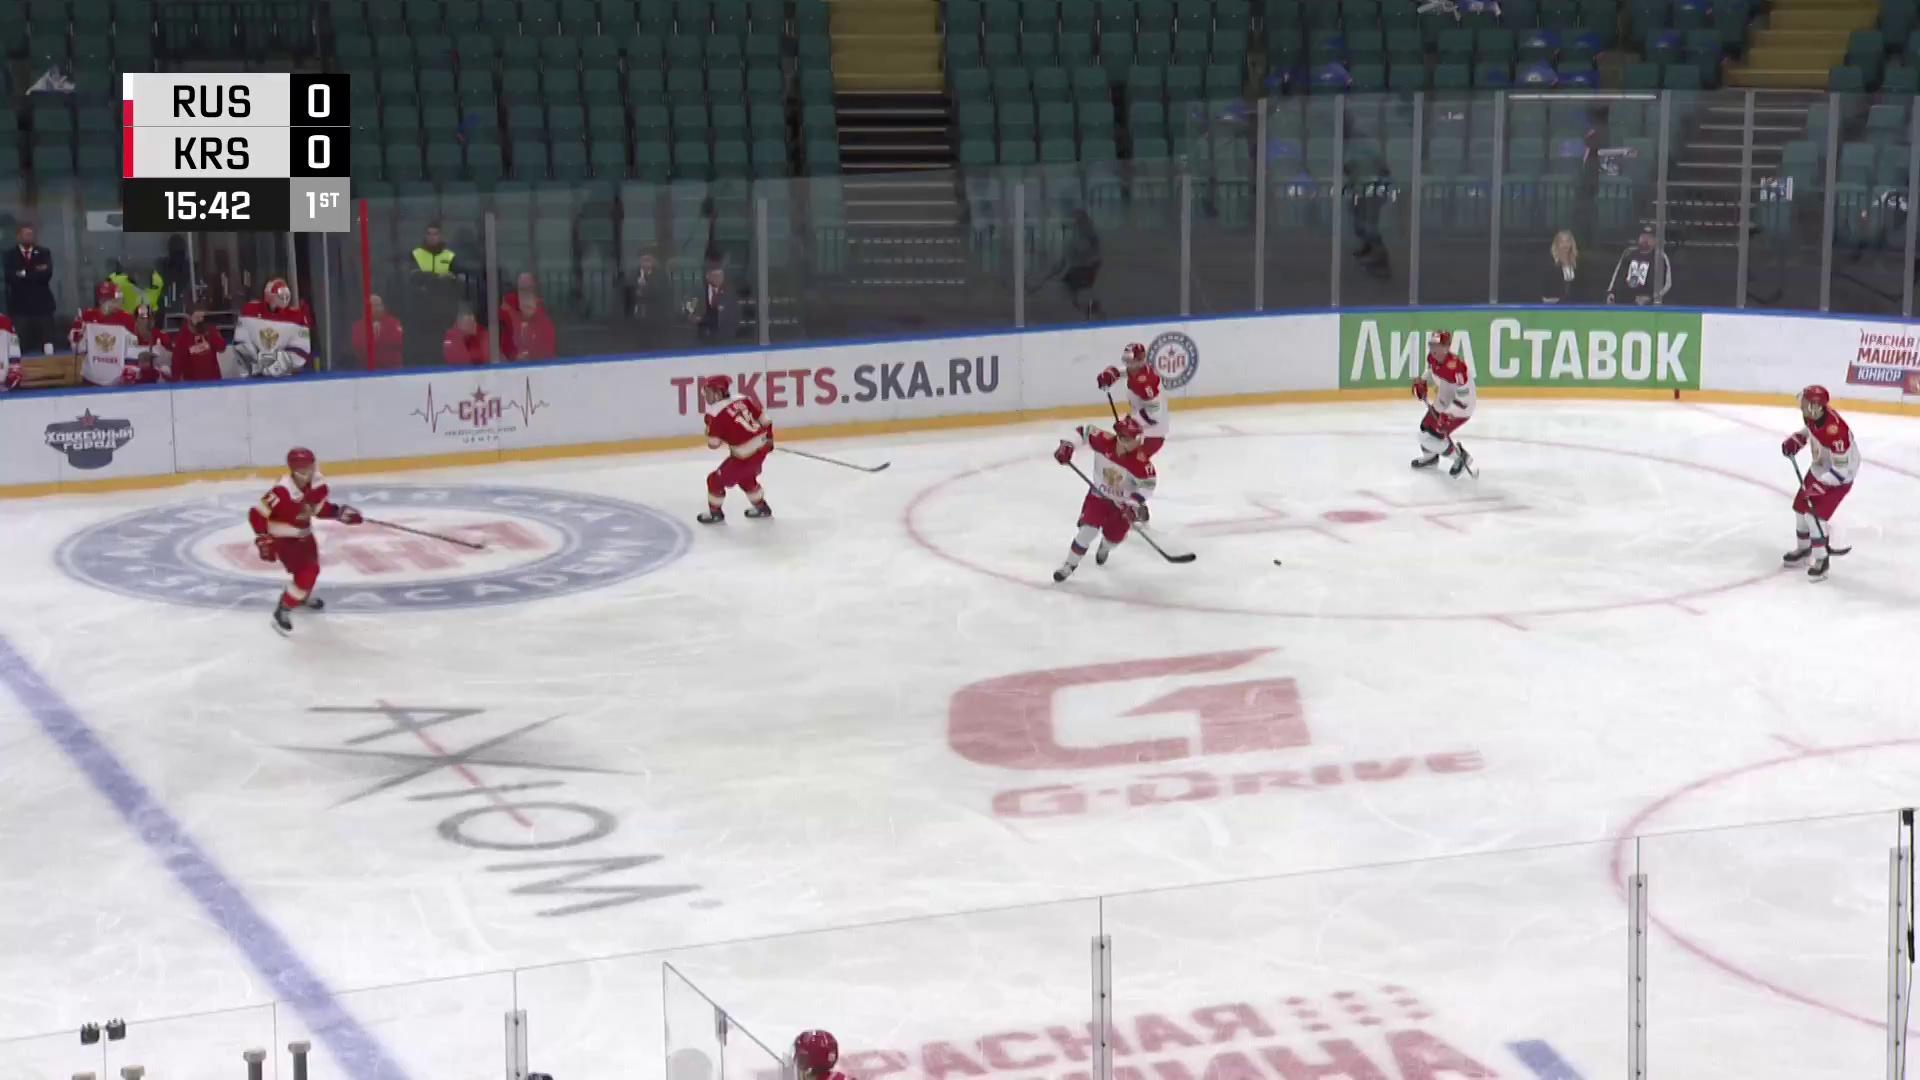ball: (1271, 558, 1282, 566)
